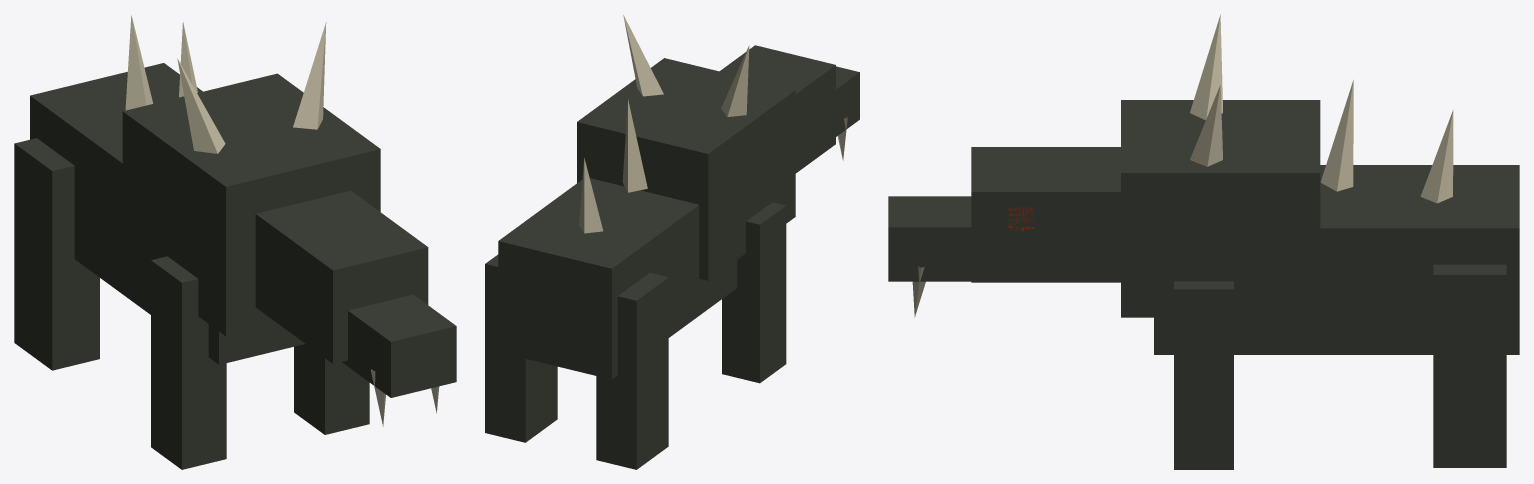
File: plague_hound.obj
The picture shows the model from 3 angles, left to right: view 1: azimuth 30°, elevation 25°; view 2: azimuth 150°, elevation 25°; view 3: azimuth 270°, elevation 25°; orthographic projection. The views are drawn at different scales.
Bounding box in the file's own units: 0.63 × 1.25 × 1.9.
